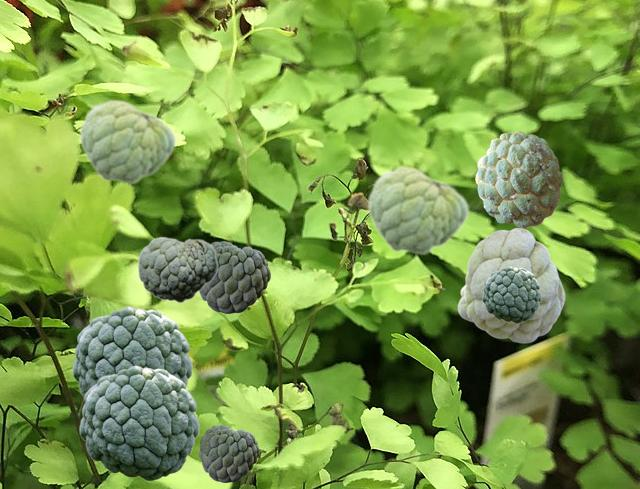atis: (79, 365, 198, 480), (457, 227, 564, 342), (72, 306, 191, 399), (366, 165, 468, 255), (78, 98, 175, 184), (475, 131, 561, 226), (137, 236, 217, 302), (199, 241, 269, 312), (199, 425, 258, 481), (482, 266, 540, 322)
